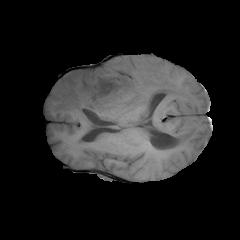glioma: (53, 60, 190, 126)
